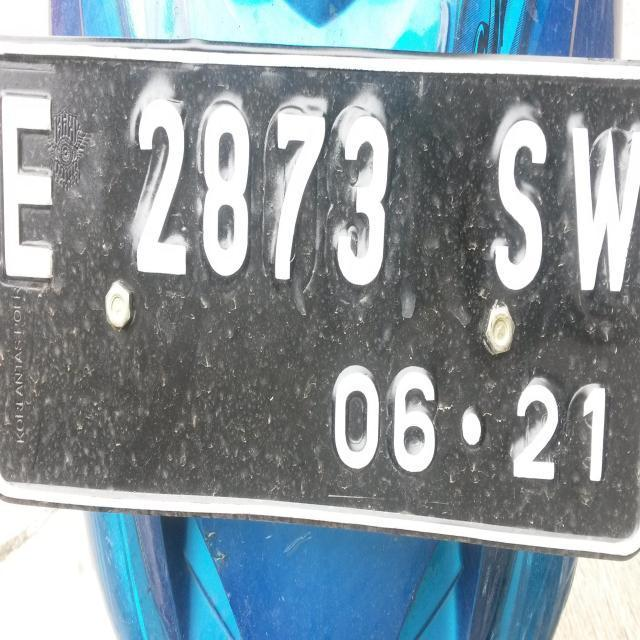2: (124, 76, 194, 290)
3: (335, 84, 398, 308)
7: (262, 72, 334, 310)
8: (194, 80, 258, 303)
E: (1, 72, 70, 310)
S: (477, 99, 554, 305)
W: (553, 80, 640, 310)
